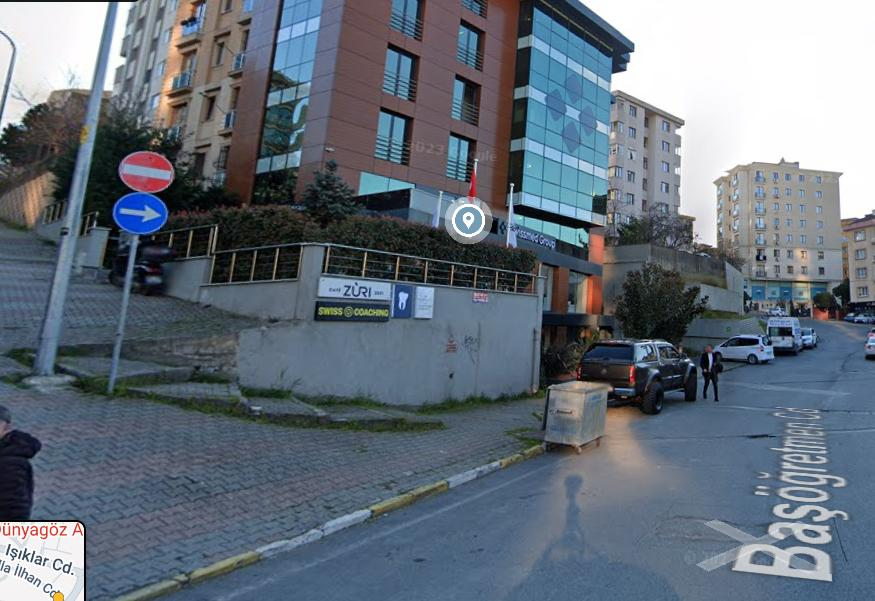turnright: (116, 191, 170, 236)
